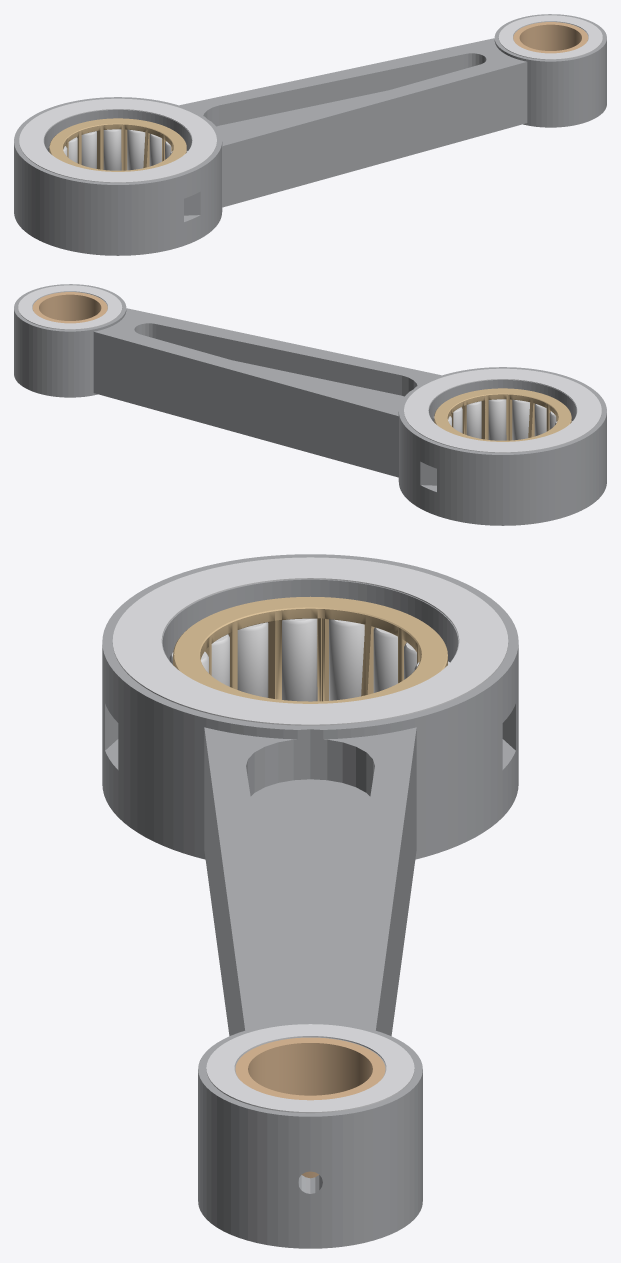
The model's file is conrod.glb.
3 views of the same model, one above another, from view 1: azimuth 30°, elevation 25°; view 2: azimuth 150°, elevation 25°; view 3: azimuth 270°, elevation 25° (orthographic). The views are drawn at different scales.
Parts seen in each view (by area): view 1: conrod__rod, conrod__machined_faces, conrod__needle_cage, conrod__needles, conrod__small_end_bush; view 2: conrod__rod, conrod__machined_faces, conrod__needle_cage, conrod__needles, conrod__small_end_bush; view 3: conrod__rod, conrod__machined_faces, conrod__needle_cage, conrod__needles, conrod__small_end_bush.
Part boxes in pixels (x1,y1,x2,y2): conrod__rod: (14,14,606,255); conrod__machined_faces: (19,15,602,182); conrod__needle_cage: (49,118,186,171); conrod__needles: (47,129,187,170); conrod__small_end_bush: (513,22,588,53); conrod__rod: (14,284,606,525); conrod__machined_faces: (18,285,601,452); conrod__needle_cage: (434,388,571,441); conrod__needles: (432,399,572,440); conrod__small_end_bush: (32,292,107,323); conrod__rod: (102,554,518,1248); conrod__machined_faces: (112,557,508,1113); conrod__needle_cage: (173,596,447,703); conrod__needles: (169,618,449,701); conrod__small_end_bush: (235,1037,385,1178).
Bounding box in the file's own units: 12.68 × 1.52 × 4.
